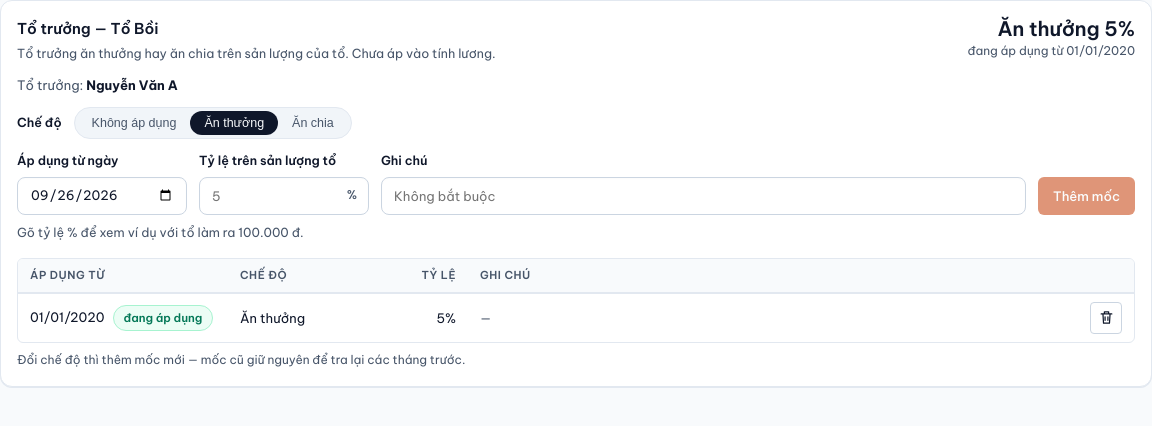
Test: ToTruongEditor › ⭐ gõ trùng ngày mốc cũ ⇒ 'Sửa mốc'; lưu gửi đúng payload rồi cập nhật góc thẻ
Expected: the text "đang áp dụng từ 01/01/2020" is shown, [968,42,1135,61]
Type "2020-01-01" into the date field labelled "Áp dụng từ ngày" at [102, 196], box [17,176,187,214]
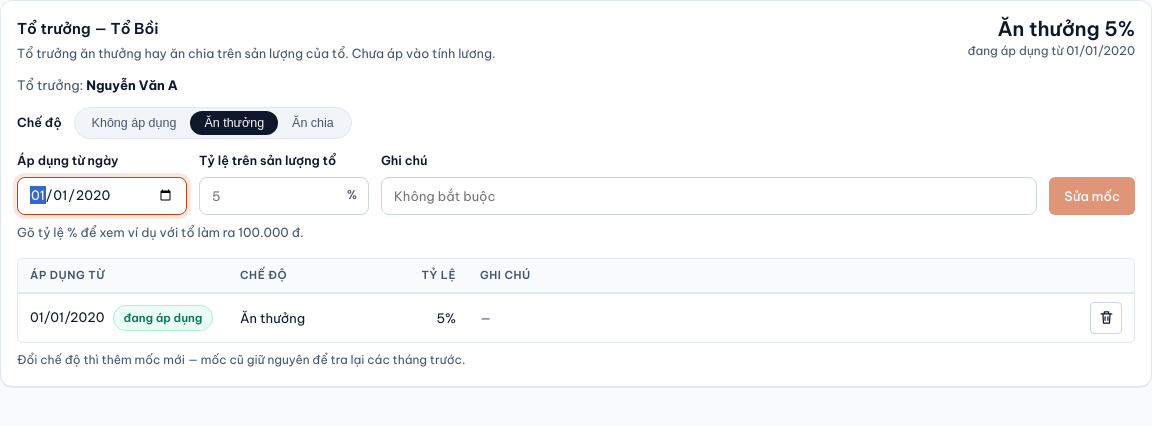
Now the button "Sửa mốc" is shown, box [1049,176,1135,214]
Click the radio button labelled "Ăn chia" at [313, 123], box [278,111,348,135]
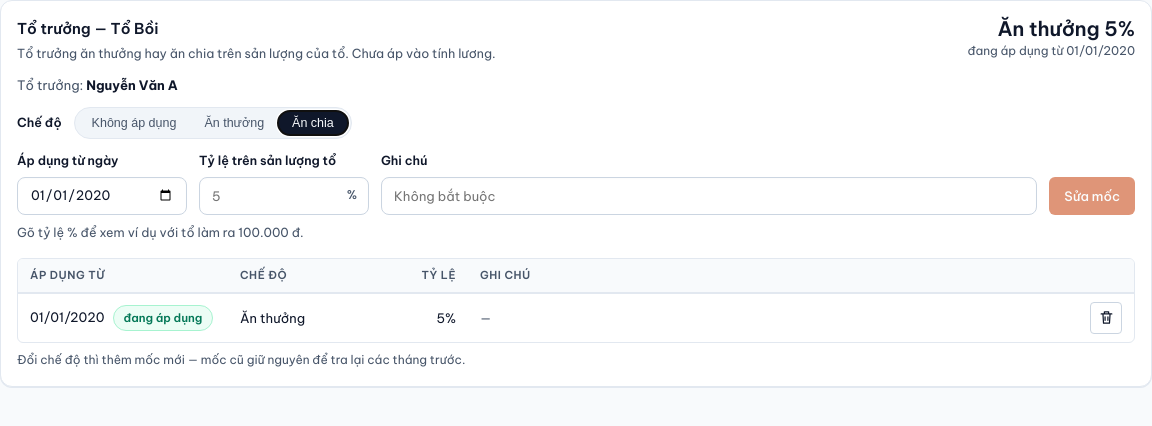
Type "7.5" into the number field with placeholder "5" at [284, 196], box [199,176,369,214]
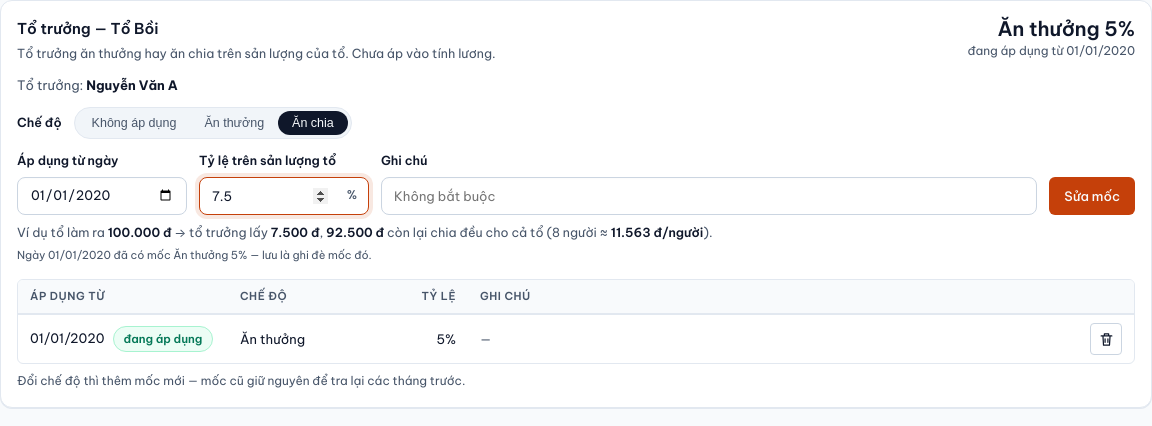
Now the text "đã có mốc Ăn thưởng 5%" is shown, box [17,248,372,262]
Type "  họp tổ  " into the field with placeholder "Không bắt buộc" at [709, 196], box [381,176,1037,214]
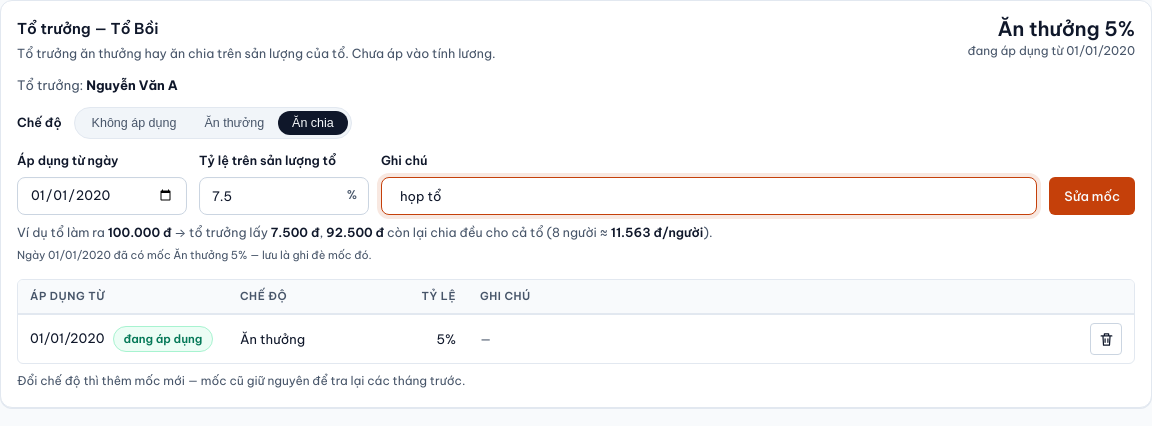
Click the button "Sửa mốc" at [1092, 196], box [1049,176,1135,214]
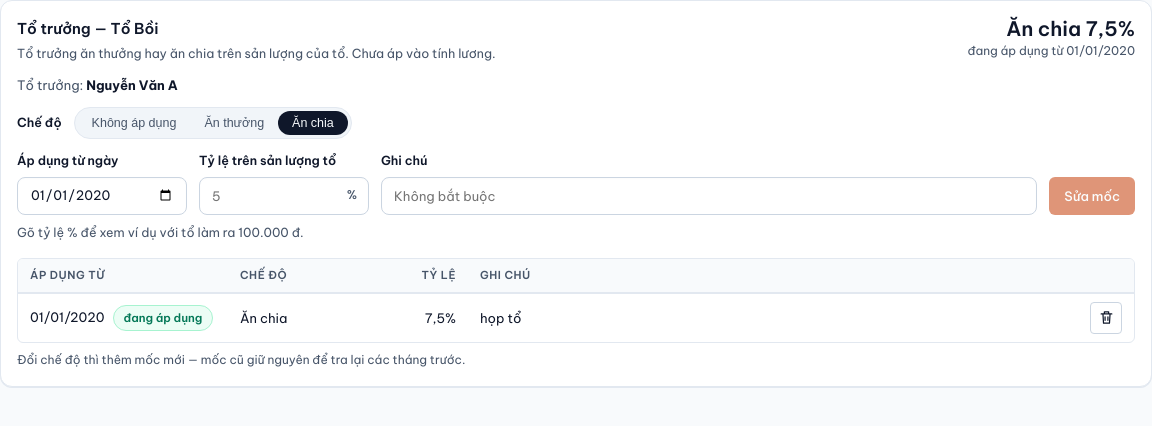
Now the text with class "cl-chitieu__now-val" reads "Ăn chia 7,5%", box [1006,16,1135,41]
